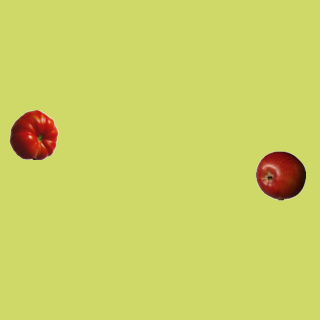Apple Braeburn: (255, 150, 305, 200)
Tomato 3: (8, 109, 58, 159)
